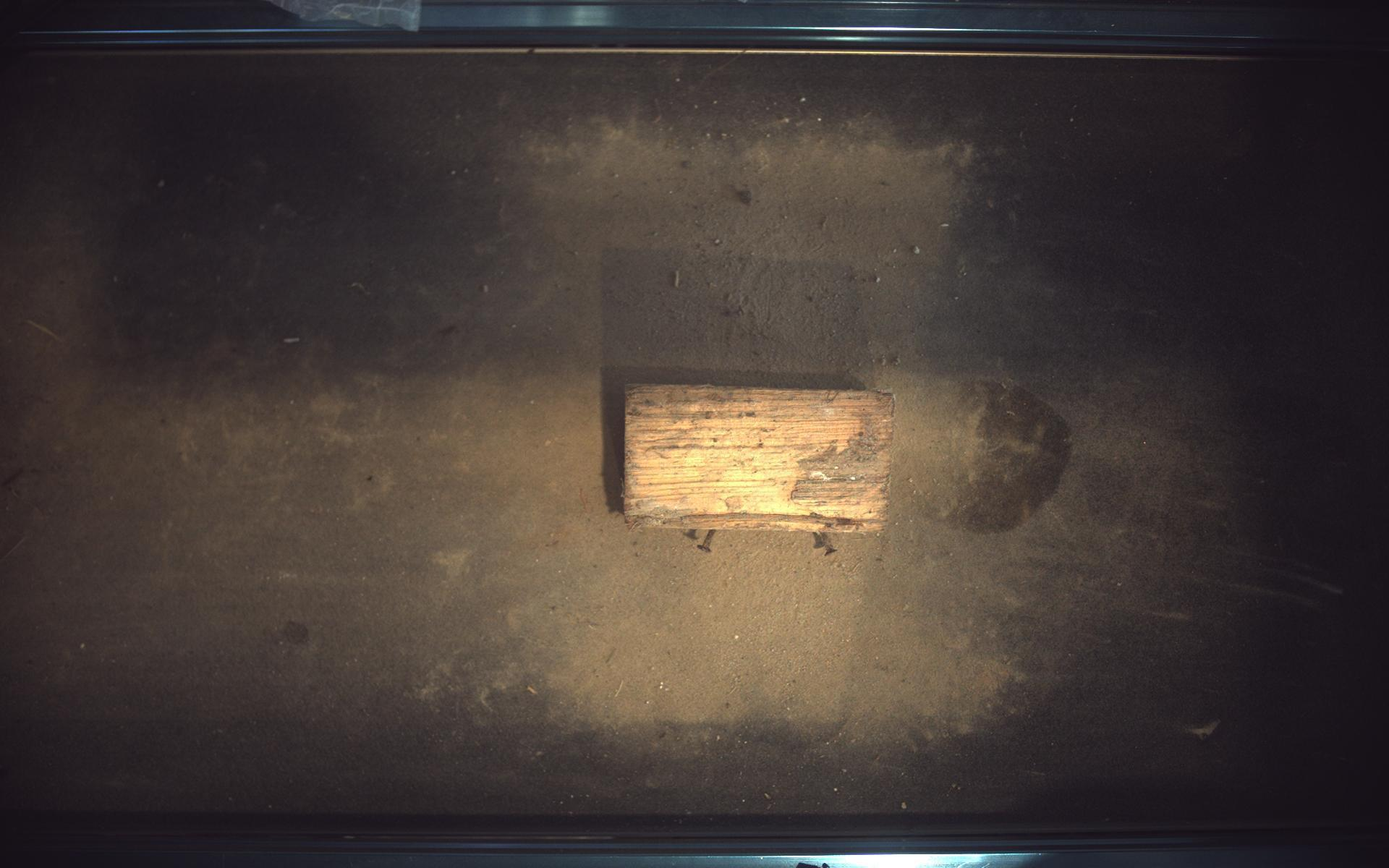wood: (624, 384, 896, 532)
